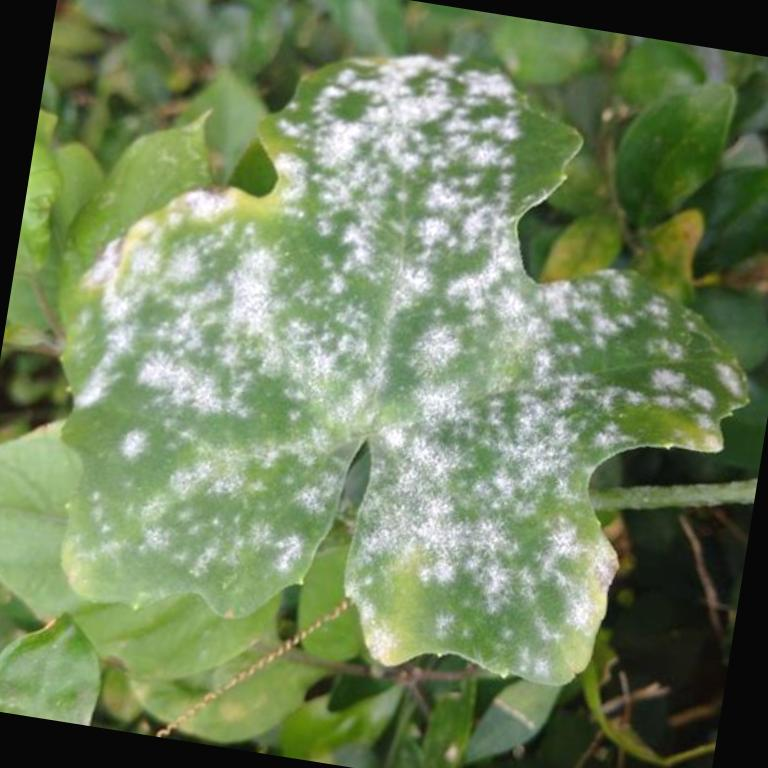powdery-mildew: (104, 231, 351, 492), (370, 386, 602, 614), (302, 68, 522, 274)
